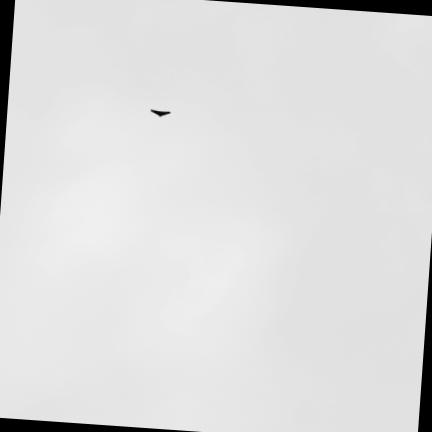Shahed: (150, 109, 169, 115)
